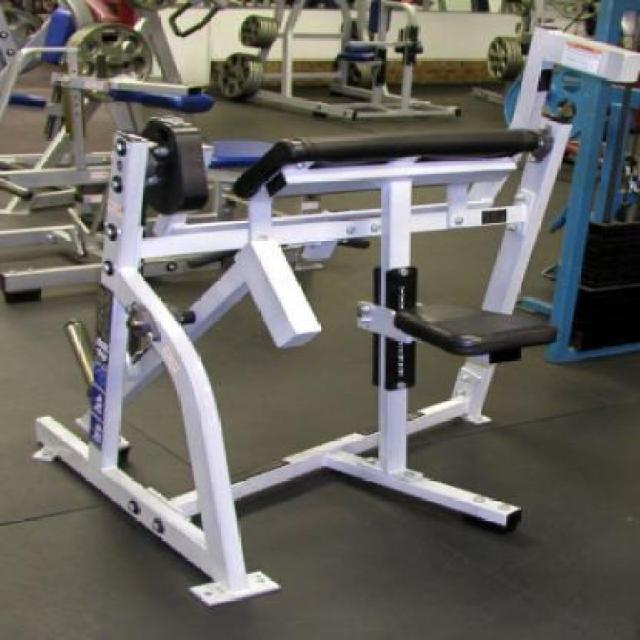arm curl machine: (34, 114, 578, 600)
